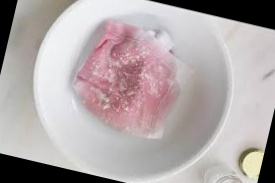wine: (74, 26, 187, 125)
